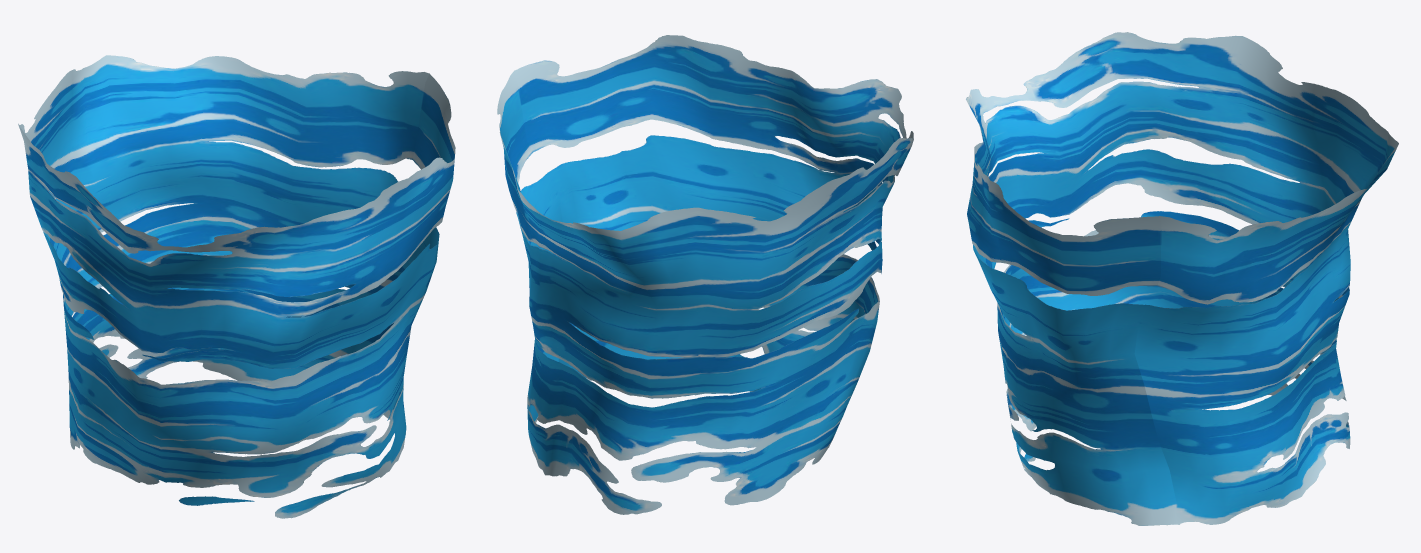
File: shuizhu_1.FBX
The picture shows the model from 3 angles, left to right: view 1: azimuth 30°, elevation 25°; view 2: azimuth 150°, elevation 25°; view 3: azimuth 270°, elevation 25°; orthographic projection. The views are drawn at different scales.
Parts seen in each view (by area): view 1: Plane001; view 2: Plane001; view 3: Plane001.
Part boxes in pixels (x1,y1,x2,y2): Plane001: (18, 55, 455, 518); Plane001: (497, 35, 913, 514); Plane001: (966, 32, 1398, 525).
Size of the model in its own units: 42.25 by 40.66 by 44.08.
